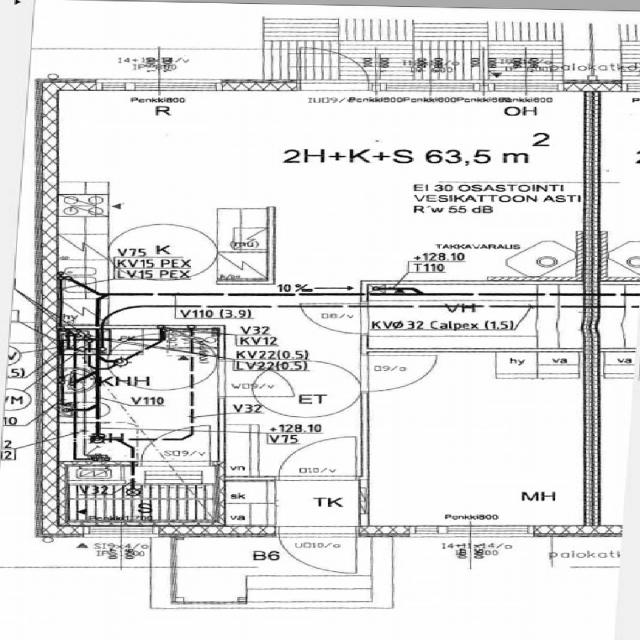door: (278, 526, 355, 575), (278, 436, 356, 480), (299, 43, 369, 90), (142, 426, 210, 466), (220, 361, 296, 396), (361, 356, 436, 391), (303, 304, 368, 333)
